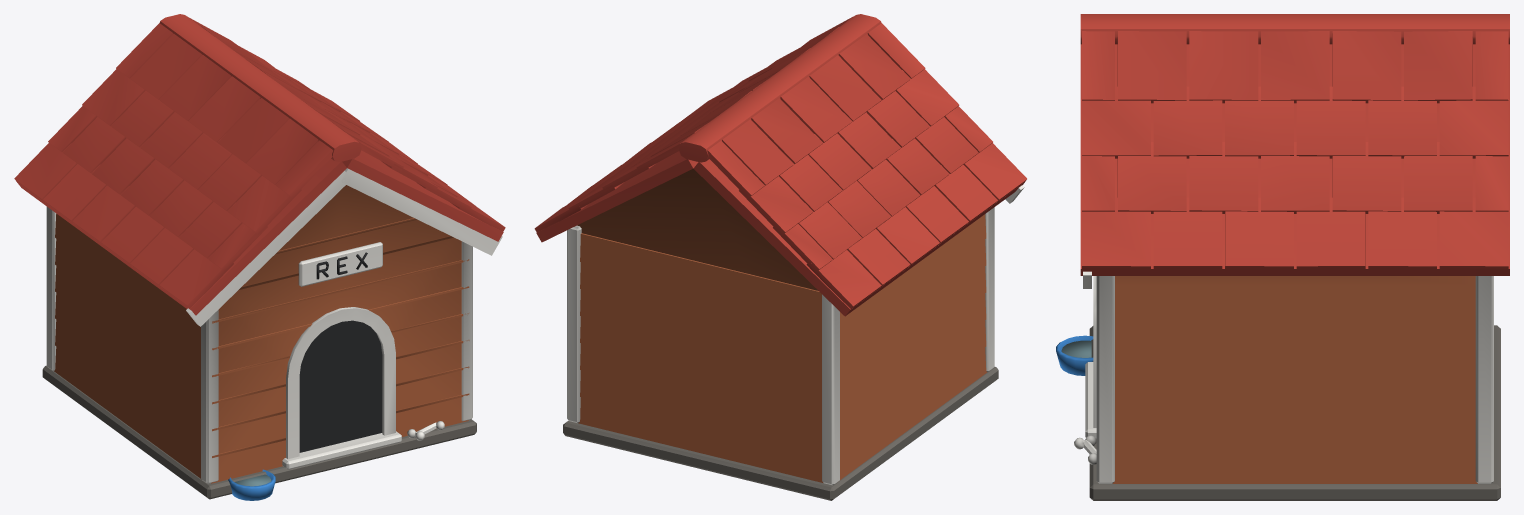
Rendered from dogHouse.glb.
The picture shows the model from 3 angles, left to right: view 1: azimuth 30°, elevation 25°; view 2: azimuth 150°, elevation 25°; view 3: azimuth 270°, elevation 25°; orthographic projection. The views are drawn at different scales.
Parts seen in each view (by area): view 1: dogHouse; view 2: dogHouse; view 3: dogHouse.
Part boxes in pixels (x1,y1,x2,y2): dogHouse: [14, 14, 505, 500]; dogHouse: [534, 14, 1026, 500]; dogHouse: [1056, 14, 1509, 500].
Bounding box in the file's own units: 0.9911 × 0.973 × 0.994.
